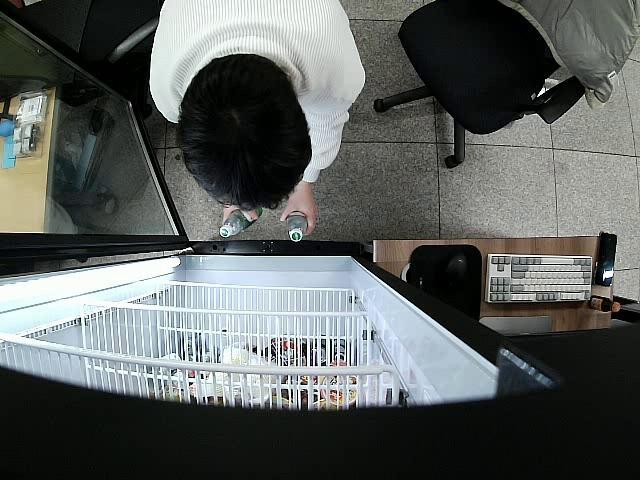18_trevi: (218, 210, 260, 241), (286, 212, 308, 242)
